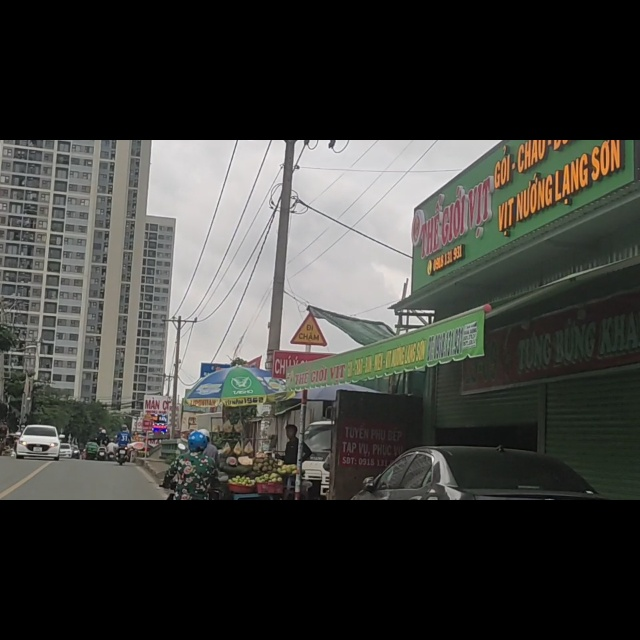bien_cam: (292, 307, 326, 365)
